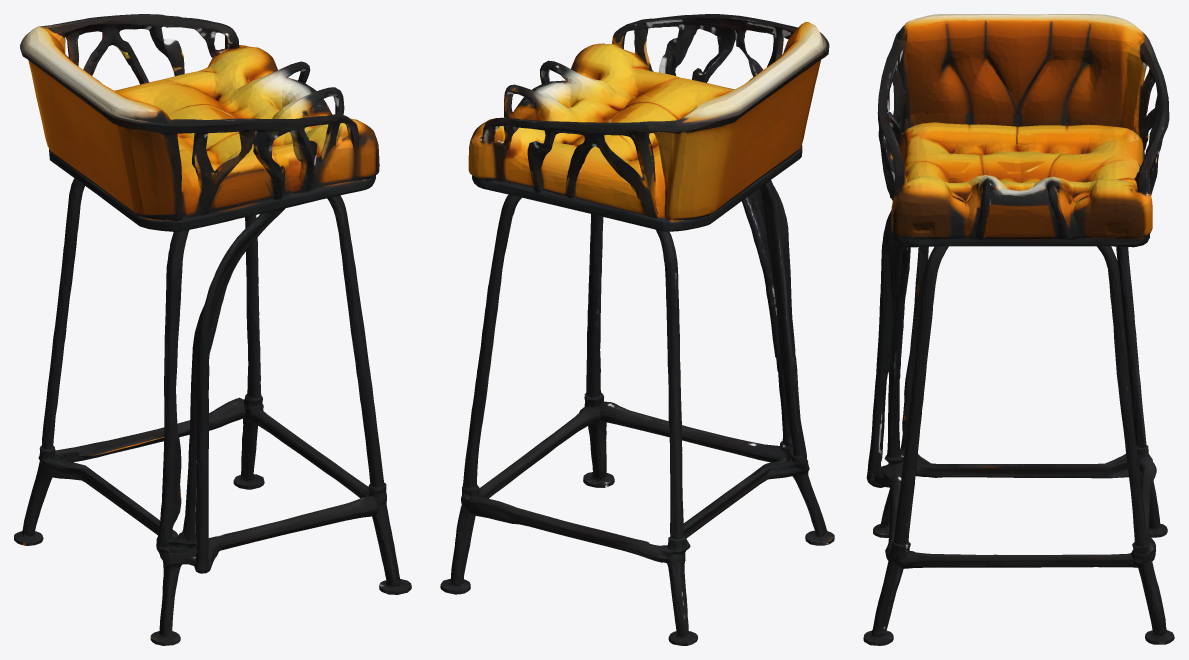
Rendered from bar_stool_36.obj.
3 renders of one model, left to right at view 1: azimuth 30°, elevation 25°; view 2: azimuth 150°, elevation 25°; view 3: azimuth 270°, elevation 25°, orthographic. The views are drawn at different scales.
Size of the model in its own units: 0.5439 by 1 by 0.5534.
1 material, 1 textured.
